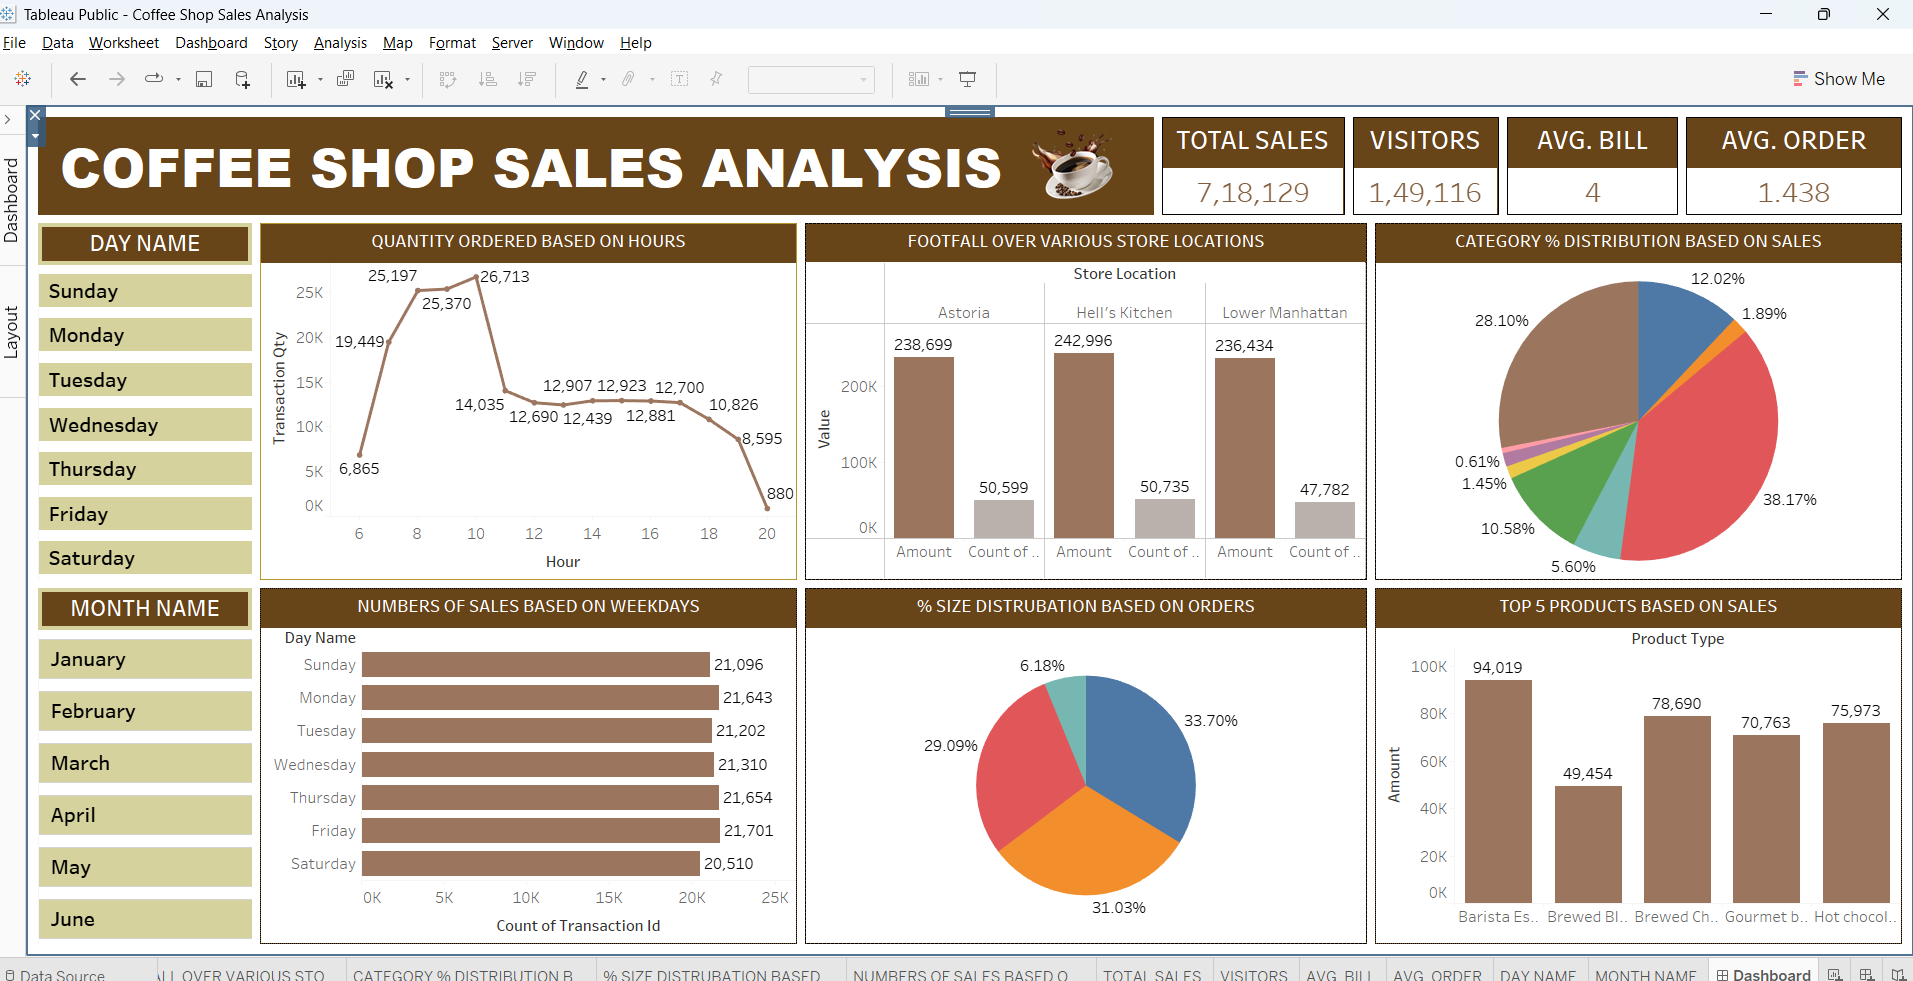

What the dashboard file says about the page in this screenshot:
{"tool":"tableau","page":{"name":"Dashboard","canvas":[1000,1000],"units":"permille","ordinal":0},"visuals":[{"type":"text","box":[4.2,9.4,595.3,124.6]},{"type":"worksheet","title":"TOTAL SALES","mark":"Automatic","box":[599.6,9.4,101.3,124.6]},{"type":"worksheet","title":"VISITORS","mark":"Automatic","box":[700.9,9.4,81.6,124.6]},{"type":"worksheet","title":"AVG. BILL","mark":"Automatic","box":[782.4,9.4,94.9,124.6]},{"type":"worksheet","title":"AVG. ORDER","mark":"Automatic","box":[877.3,9.4,118.5,124.6]},{"type":"image","param":"Image/pngtree-flying-cup-of-coffee-with-splash-and-coffee-beans-png-background-p","box":[517.8,14.1,71.8,110.5]},{"type":"worksheet","title":"DAY NAME","mark":"Automatic","rows":["Day_Name"],"cols":["Calculation_1555712217100910593"],"box":[4.2,134,117.6,428.3]},{"type":"worksheet","title":"QUANTITY ORDERED BASED ON HOURS","mark":"Line","rows":["transaction_qty"],"cols":["Hour"],"box":[121.8,134,288.4,428.3]},{"type":"worksheet","title":"FOOTFALL OVER VARIOUS STORE LOCATIONS","mark":"Automatic","cols":["store_location"],"box":[410.3,134,302.1,428.3]},{"type":"worksheet","title":"CATEGORY % DISTRIBUTION BASED ON SALES","mark":"Pie","box":[712.4,134,283.4,428.3]},{"type":"worksheet","title":"MONTH NAME","mark":"Automatic","rows":["Month_Name"],"cols":["Calculation_1555712217103532035"],"box":[4.2,562.3,117.6,428.3]},{"type":"worksheet","title":"NUMBERS OF SALES BASED ON WEEKDAYS","mark":"Automatic","rows":["Day_Name"],"cols":["transaction_id"],"box":[121.8,562.3,288.4,428.3]},{"type":"worksheet","title":"% SIZE DISTRUBATION BASED ON ORDERS","mark":"Pie","box":[410.3,562.3,302.1,428.3]},{"type":"worksheet","title":"TOP 5 PRODUCTS BASED ON SALES","mark":"Automatic","rows":["Amount"],"cols":["product_type"],"box":[712.4,562.3,283.4,428.3]}]}

Visuals, with their boxes on the dashboard's canvas, which has no fixed pixel size, in thousandths of its width and height (x1, y1, x2, y2). These are canvas units, not pixel positions in the 1913x981 screenshot, which may show the page scaled, cropped or inside an application window:
text: rect(4, 9, 600, 134)
"TOTAL SALES" worksheet: rect(600, 9, 701, 134)
"VISITORS" worksheet: rect(701, 9, 782, 134)
"AVG. BILL" worksheet: rect(782, 9, 877, 134)
"AVG. ORDER" worksheet: rect(877, 9, 996, 134)
image: rect(518, 14, 590, 125)
"DAY NAME" worksheet: rect(4, 134, 122, 562)
"QUANTITY ORDERED BASED ON HOURS" worksheet (Line marks): rect(122, 134, 410, 562)
"FOOTFALL OVER VARIOUS STORE LOCATIONS" worksheet: rect(410, 134, 712, 562)
"CATEGORY % DISTRIBUTION BASED ON SALES" worksheet (Pie marks): rect(712, 134, 996, 562)
"MONTH NAME" worksheet: rect(4, 562, 122, 991)
"NUMBERS OF SALES BASED ON WEEKDAYS" worksheet: rect(122, 562, 410, 991)
"% SIZE DISTRUBATION BASED ON ORDERS" worksheet (Pie marks): rect(410, 562, 712, 991)
"TOP 5 PRODUCTS BASED ON SALES" worksheet: rect(712, 562, 996, 991)
